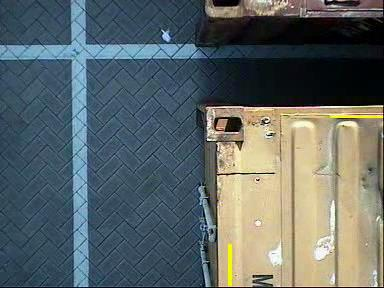groundmarker_2: (112, 34, 166, 71), (112, 177, 166, 214)
